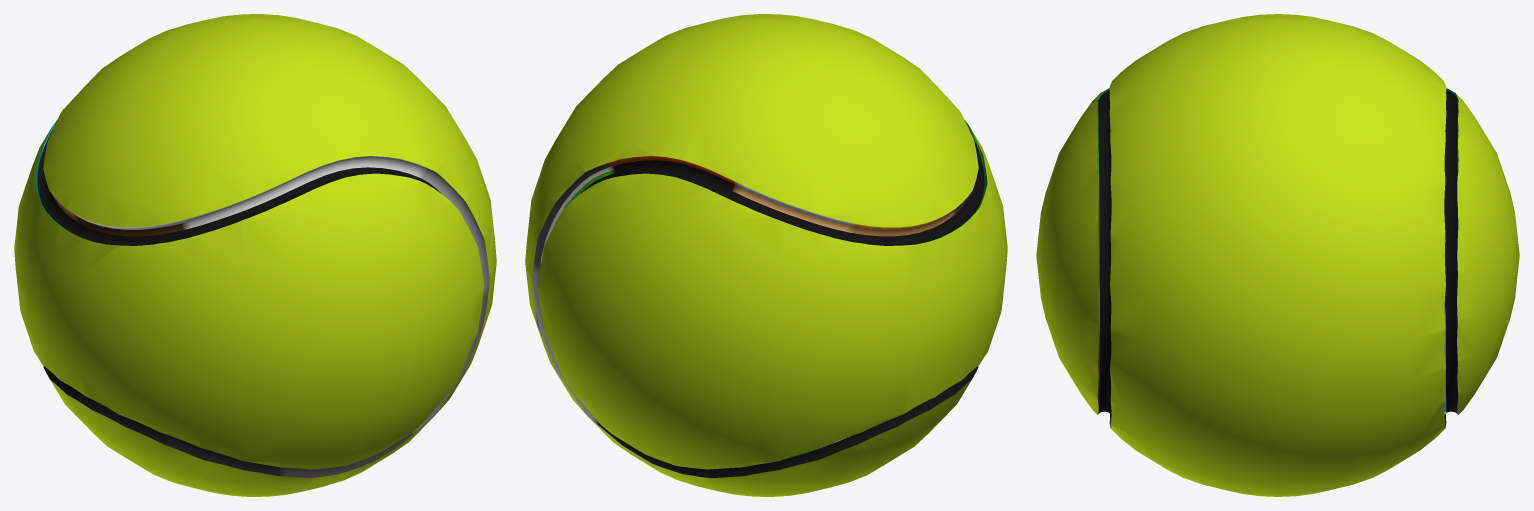
File: rock2.fbx
The picture shows the model from 3 angles, left to right: view 1: azimuth 30°, elevation 25°; view 2: azimuth 150°, elevation 25°; view 3: azimuth 270°, elevation 25°; orthographic projection.
Visible parts, largest first — view 1: rock.001; view 2: rock.001; view 3: rock.001.
Part boxes in pixels (x1,y1,x2,y2): rock.001: (14, 14, 496, 496); rock.001: (525, 14, 1007, 496); rock.001: (1036, 14, 1519, 496).
Size of the model in its own units: 2 by 2 by 2.
